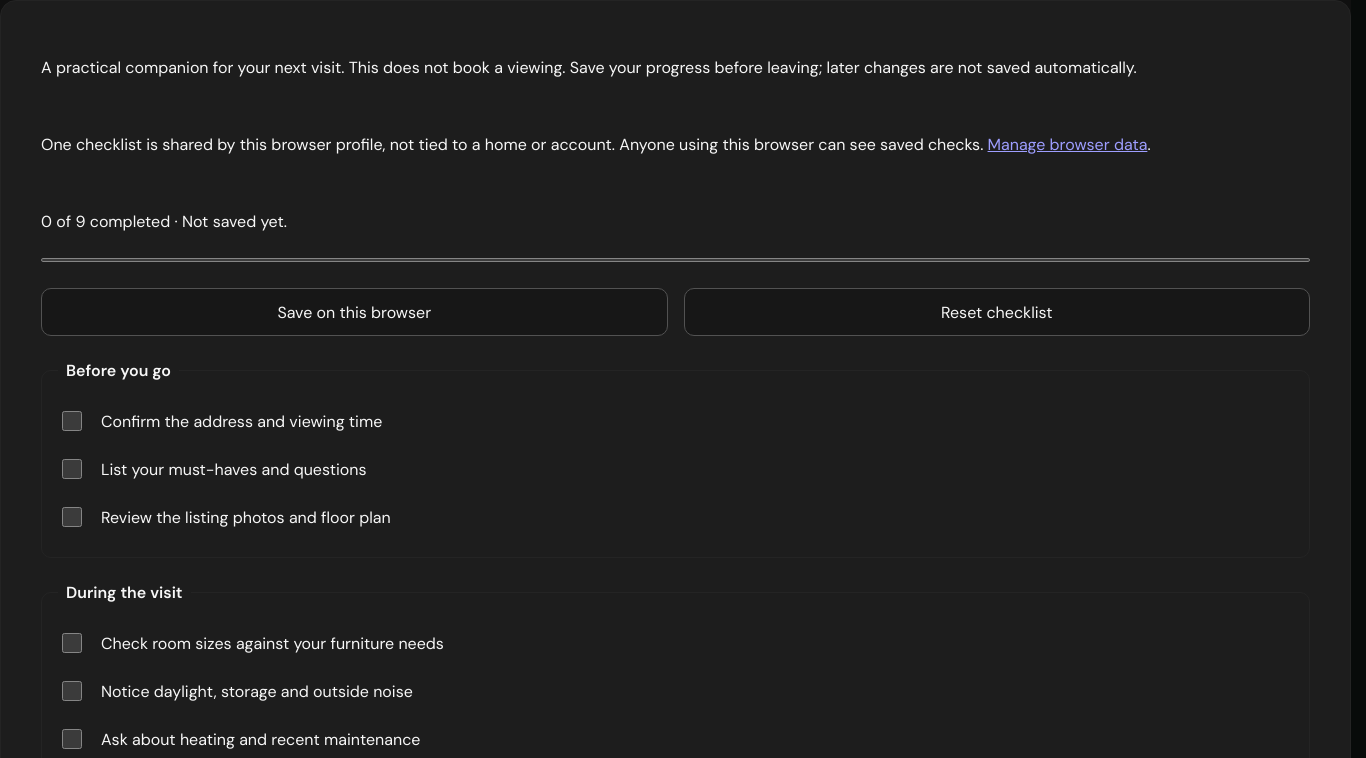
Test: does not claim a reset succeeded when storage removal fails
Click the checkbox labelled "Confirm the address and viewing time". click: {"x": 72, "y": 421}
box: [62,411,82,431]
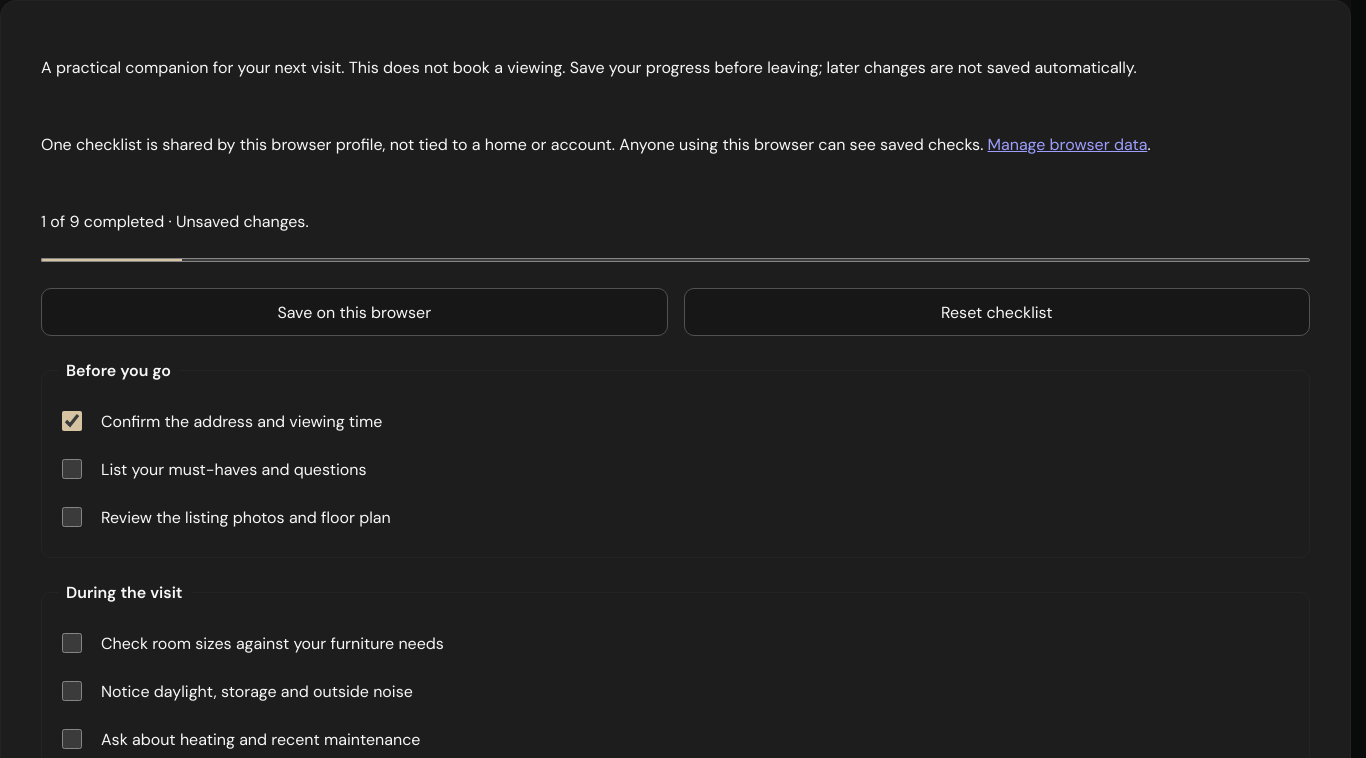
Click the button "Save on this browser". click: {"x": 354, "y": 312}
box: [41,288,668,336]
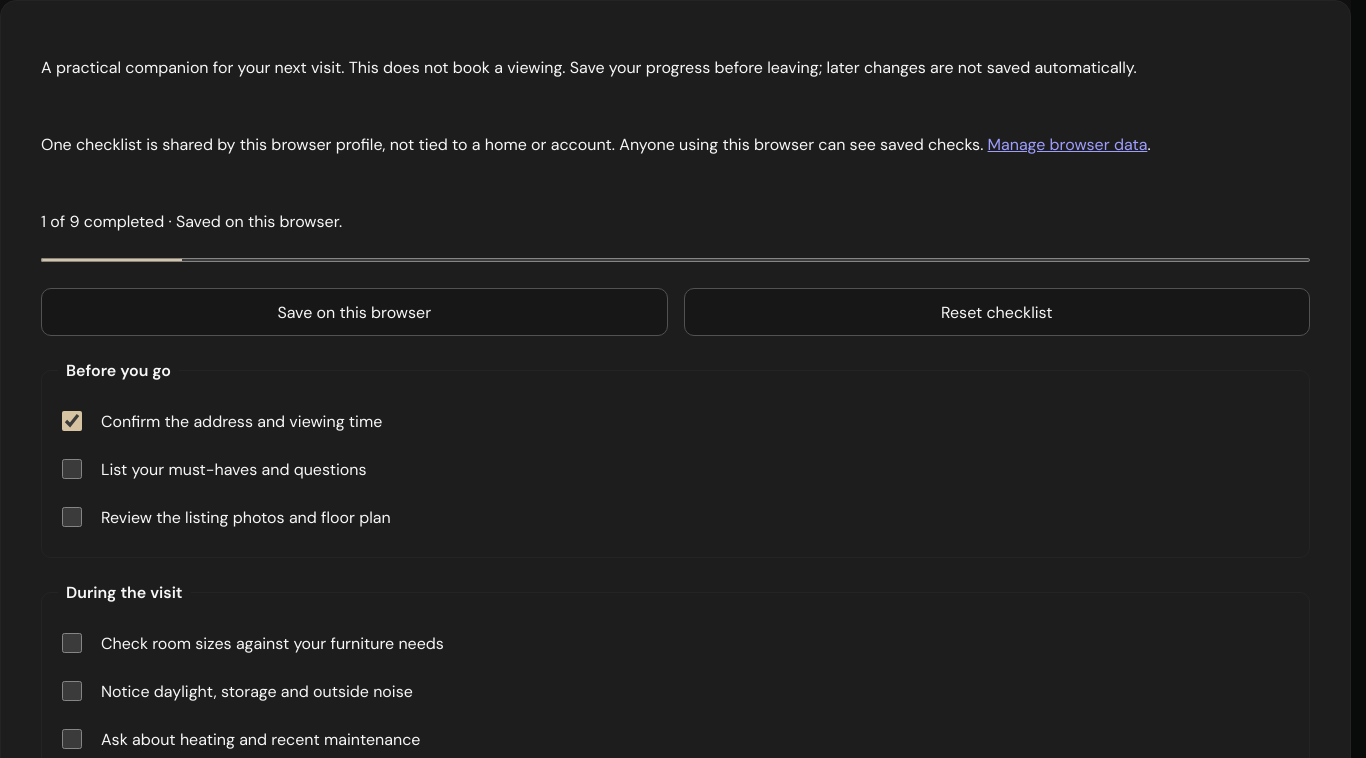
Click the button "Reset checklist". click: {"x": 997, "y": 312}
box: [684,288,1310,336]
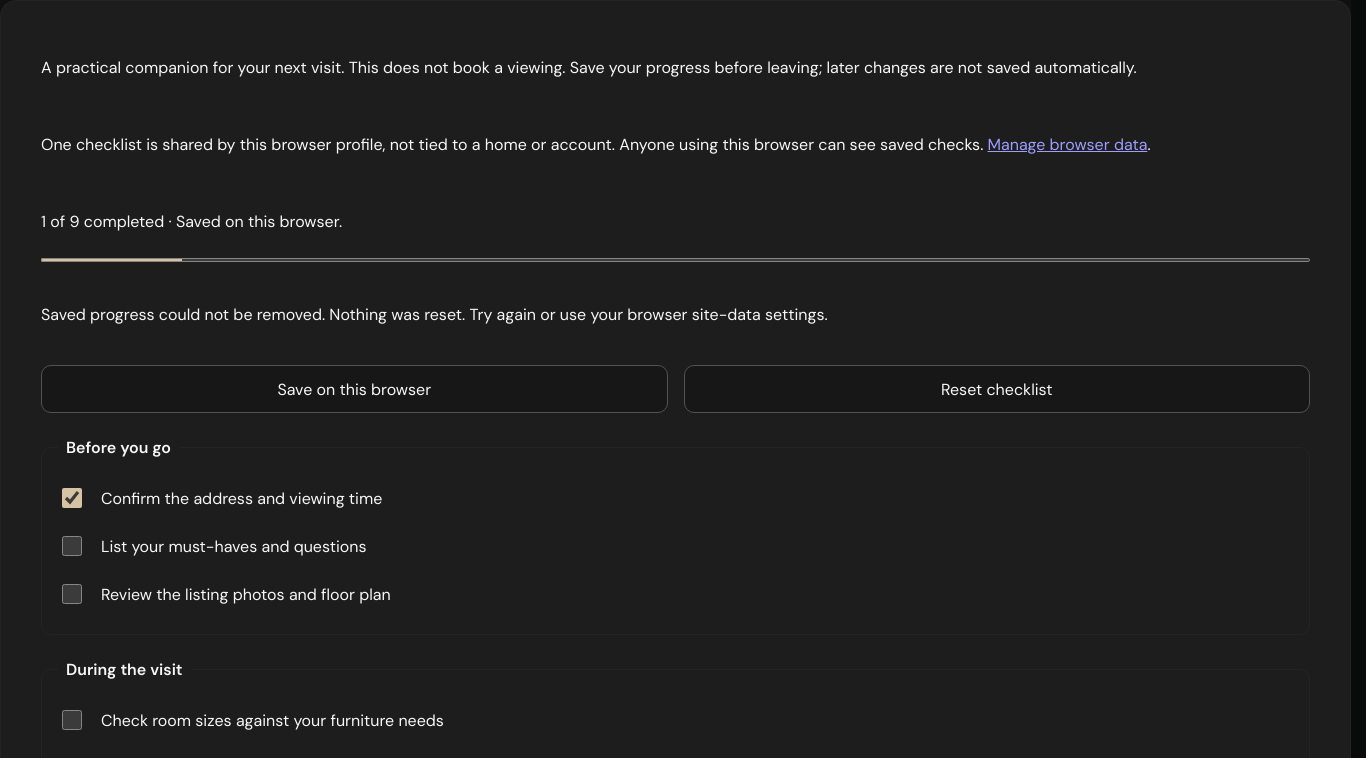
Check: the checkbox labelled "Confirm the address and viewing time" is checked, box [62,488,82,508]
Check: the 2nd message shows "Nothing was reset", box [41,304,828,325]
